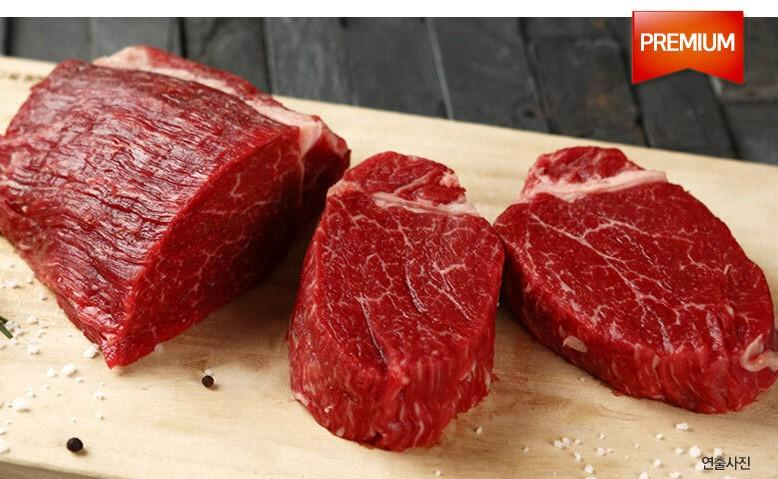beef: (34, 55, 356, 257), (380, 113, 610, 329), (609, 117, 778, 303)
